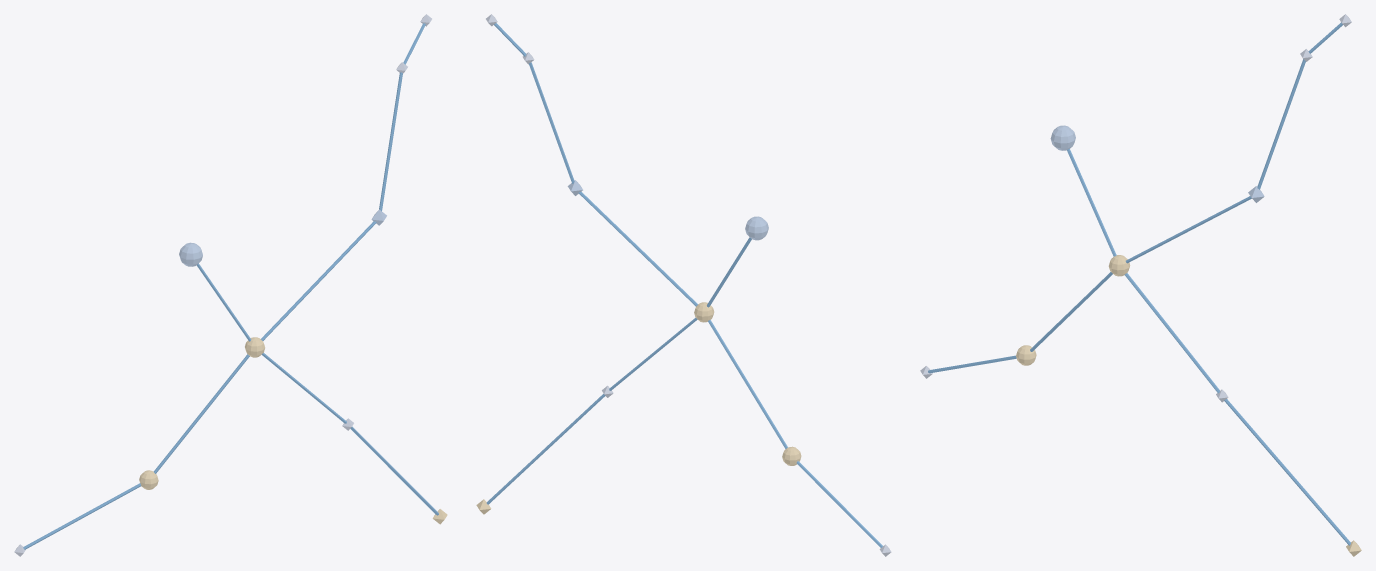
The model's file is constellation-cyg.glb.
3 views of the same model, side by side, from view 1: azimuth 30°, elevation 25°; view 2: azimuth 150°, elevation 25°; view 3: azimuth 330°, elevation 25° (orthographic). The views are drawn at different scales.
Size of the model in its own units: 2.38 by 2.73 by 0.3301.
